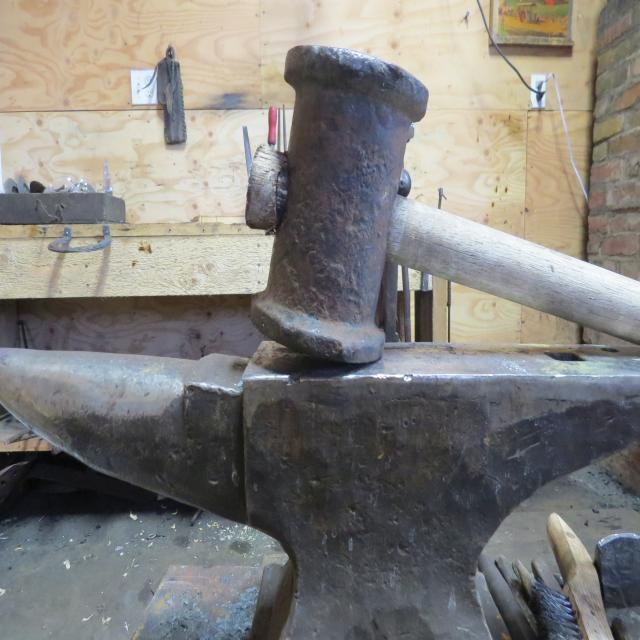hammer: (240, 35, 640, 369)
